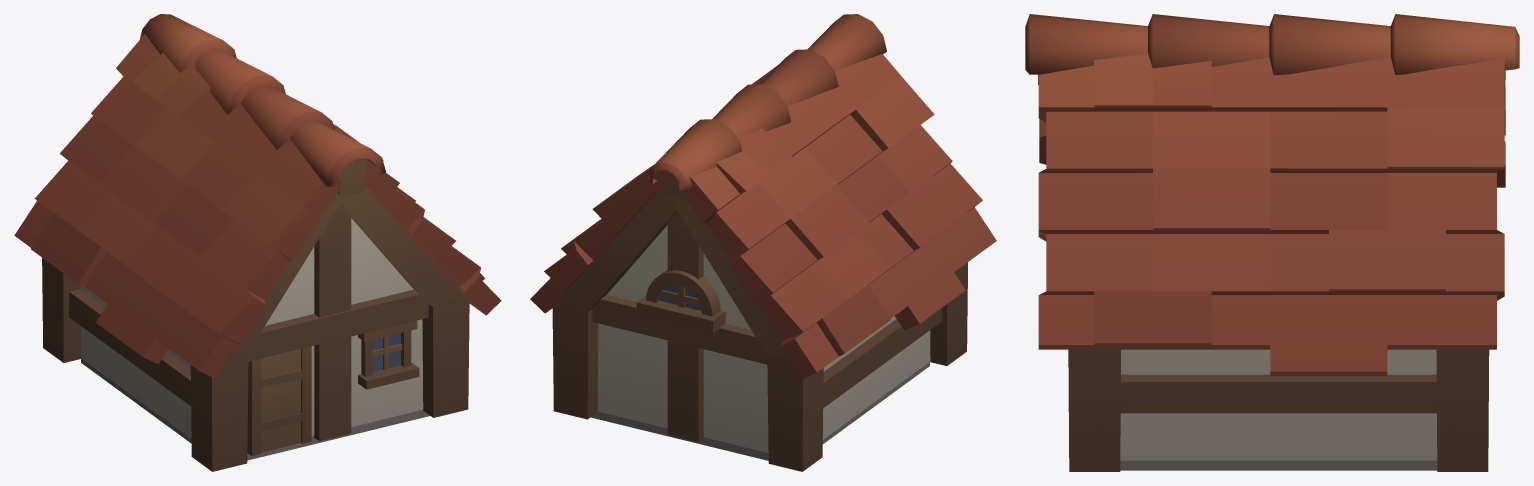
File: chonkyHouse2.fbx
The picture shows the model from 3 angles, left to right: view 1: azimuth 30°, elevation 25°; view 2: azimuth 150°, elevation 25°; view 3: azimuth 270°, elevation 25°; orthographic projection. The views are drawn at different scales.
Parts seen in each view (by area): view 1: chonkyHouse3; view 2: chonkyHouse3; view 3: chonkyHouse3.
Part boxes in pixels (bbox=[...]): chonkyHouse3: bbox=[14, 14, 501, 471]; chonkyHouse3: bbox=[530, 14, 996, 471]; chonkyHouse3: bbox=[1025, 14, 1519, 471].
Size of the model in its own units: 379 by 353 by 406.
